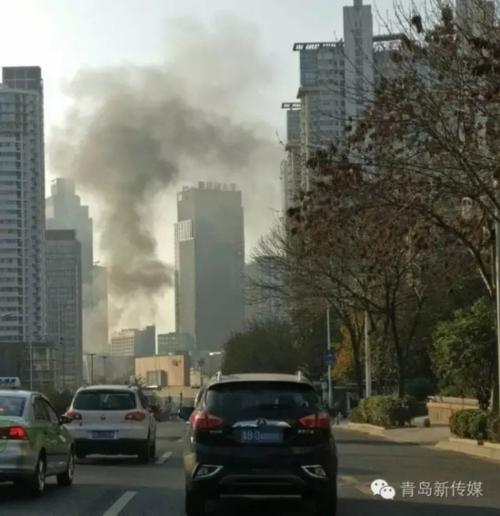smoke: (65, 68, 213, 272)
